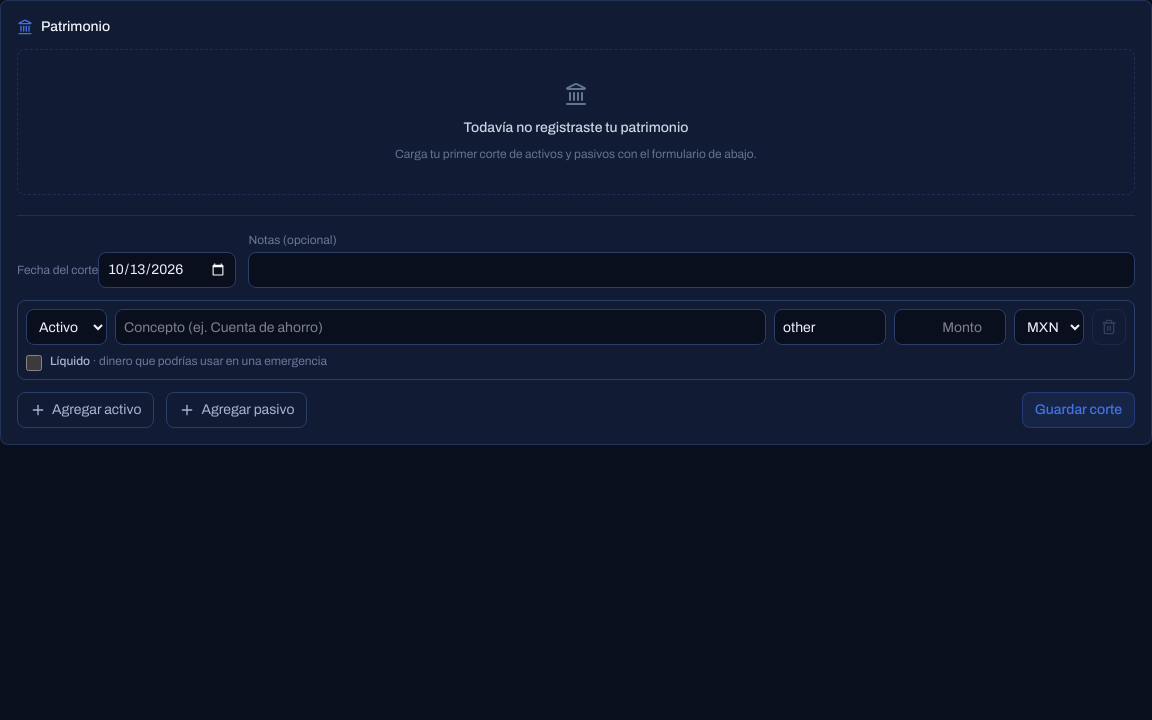
Test: NetWorthPanel form › does not save a foreign item that has no rate
The image size is (1152, 720).
In the field with placeholder "Concepto (ej. Cuenta de ahorro)": [440, 327] box [115,309,766,345], type "Dolares"
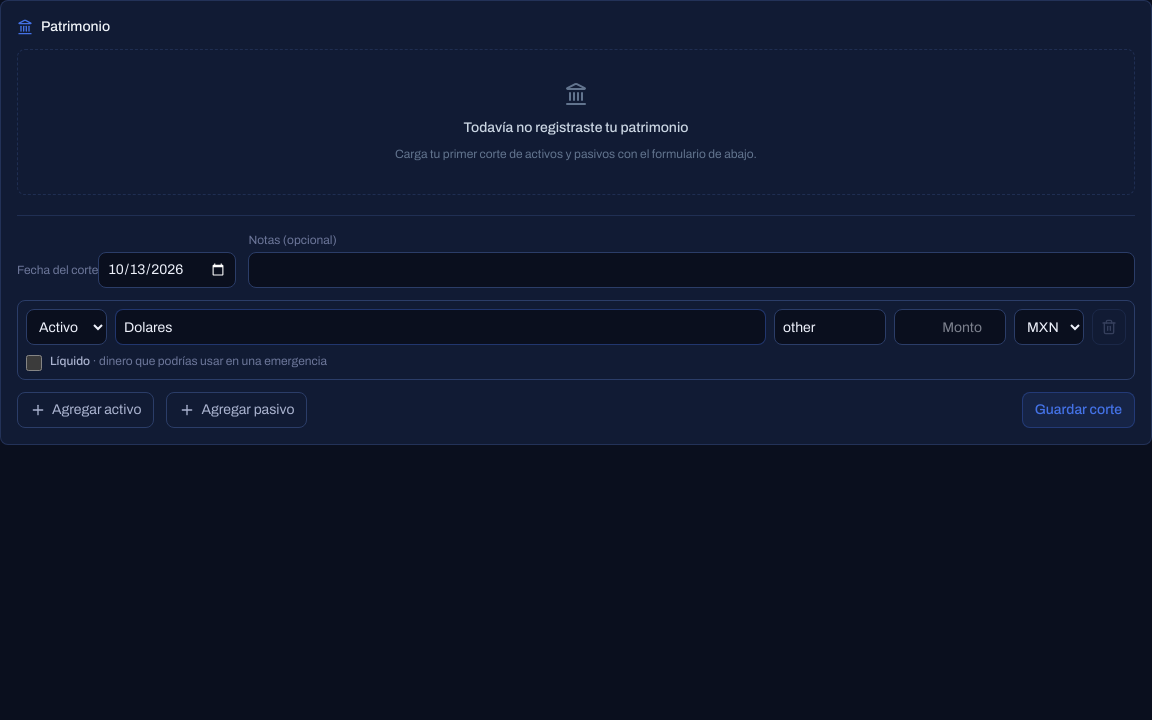
In the number field with placeholder "Monto": [950, 327] box [894,309,1006,345], type "100"
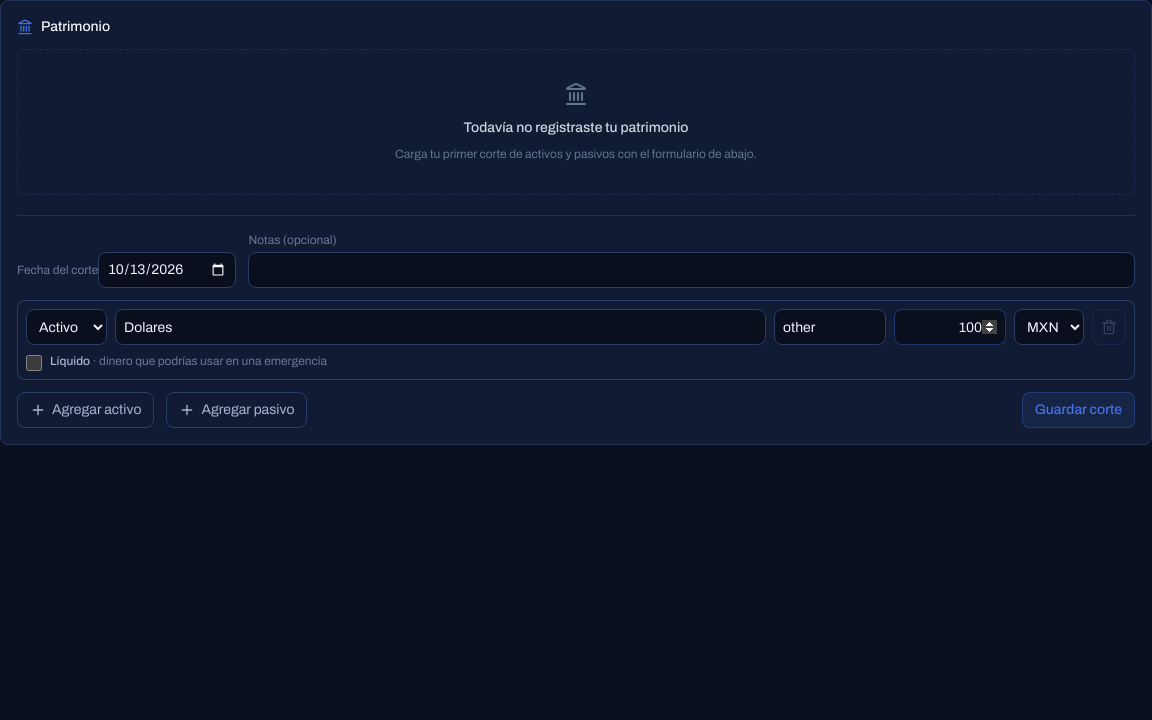
Select "USD" in the dropdown named "Moneda": [1049, 327] box [1014,309,1084,345]
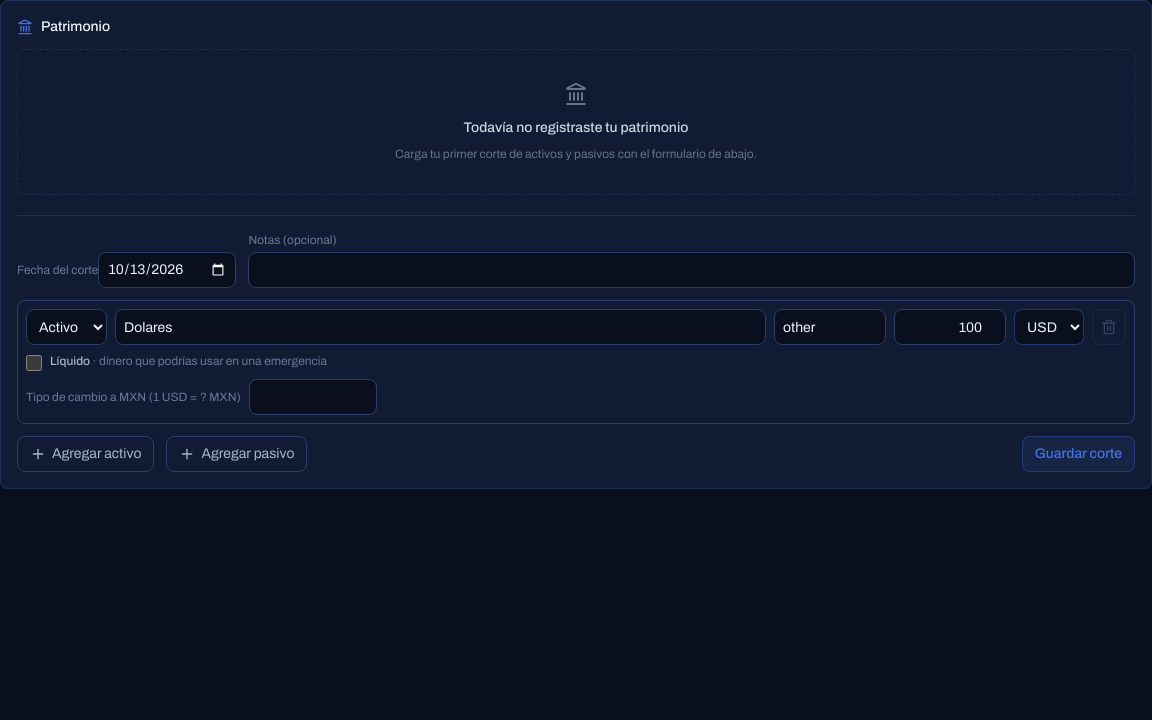
Click the button "Guardar corte": [1078, 454] box [1022,436,1135,472]
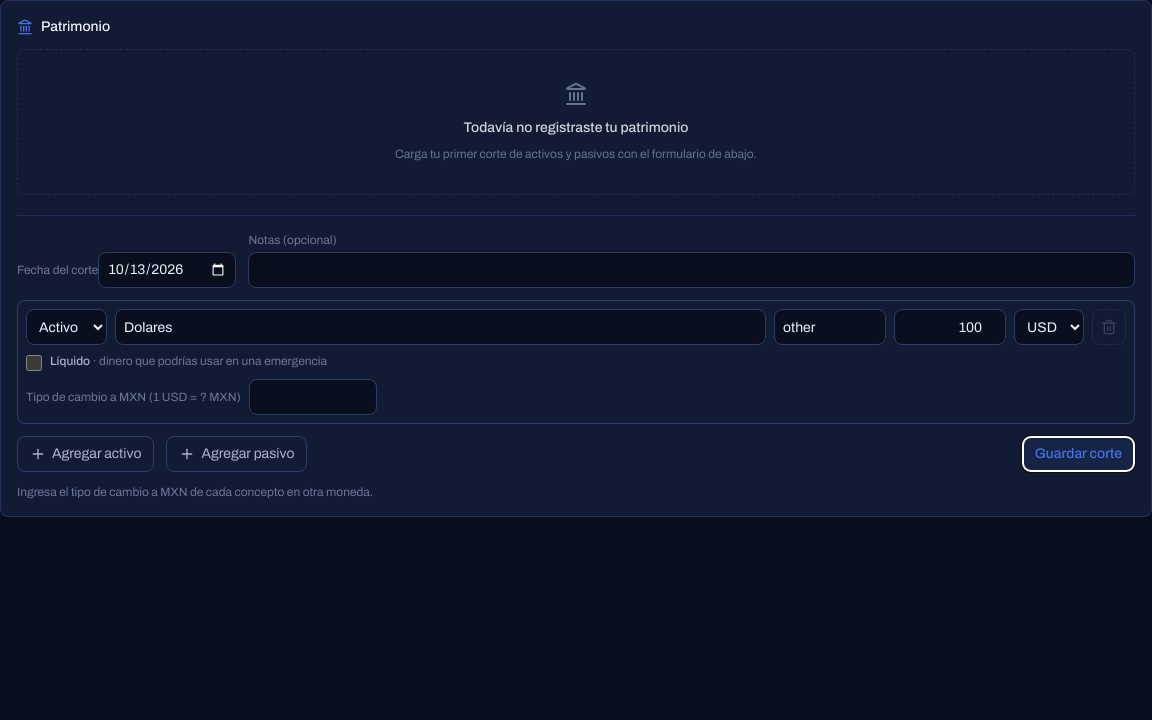
Check: the text "tipo de cambio a MXN de cada concepto" is shown, box [17,485,373,499]
